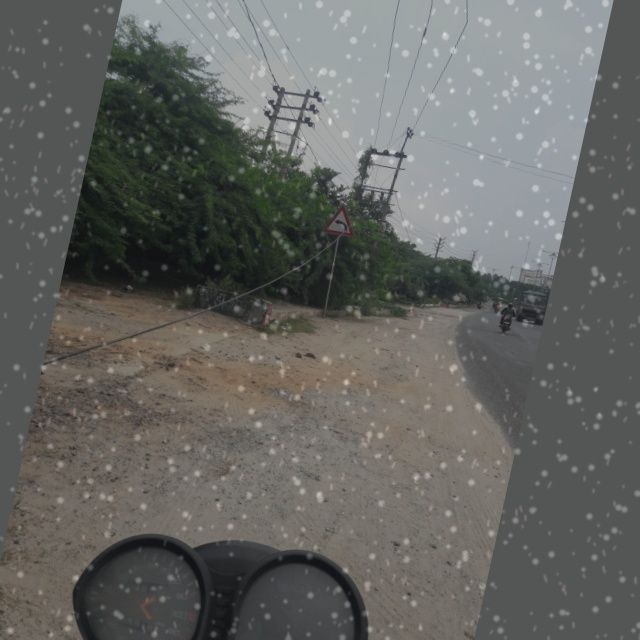Left_Hand_Curve: (321, 202, 360, 241)
